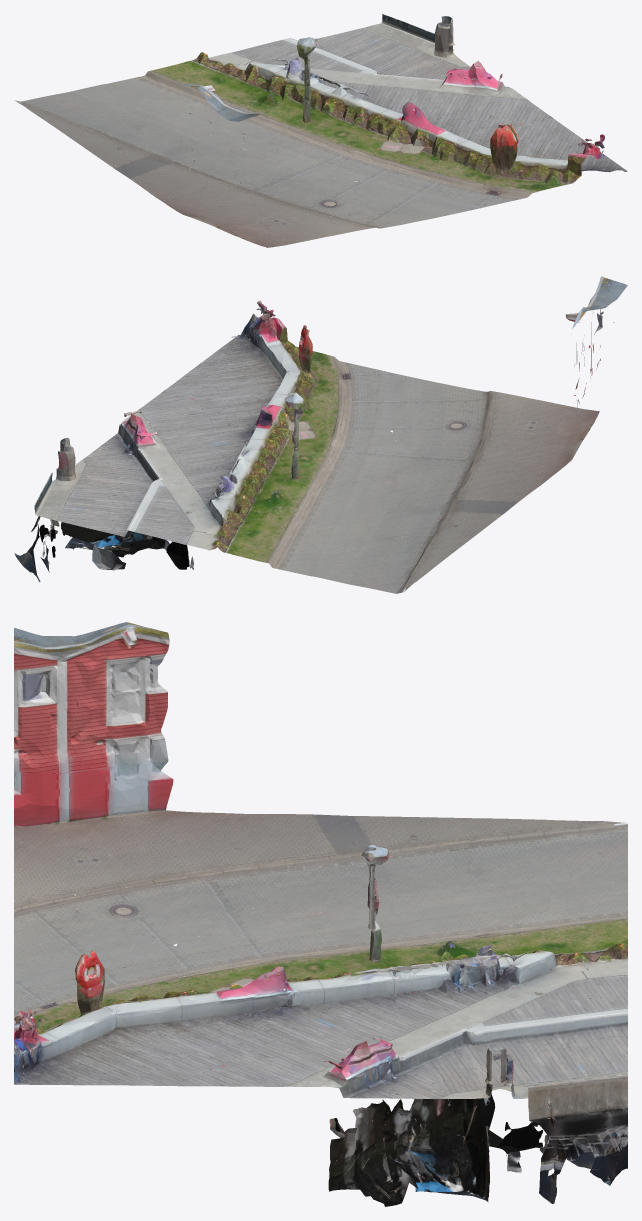
3 renders of one model, top to bottom at view 1: azimuth 30°, elevation 25°; view 2: azimuth 150°, elevation 25°; view 3: azimuth 270°, elevation 25°, orthographic. The views are drawn at different scales.
Size of the model in its own units: 16.71 by 9.86 by 16.71.
4 materials, 4 textured.
